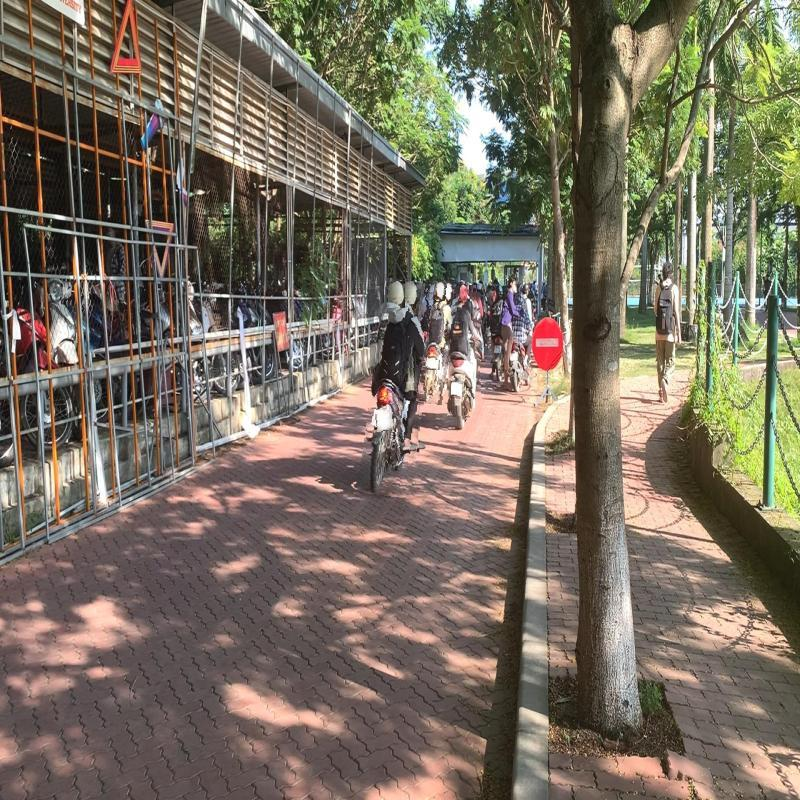helmet: (387, 281, 405, 308), (457, 284, 469, 306), (434, 282, 447, 301)
licenseplate: (376, 412, 394, 431), (451, 382, 463, 397), (430, 360, 440, 370)
motorcyclist: (365, 280, 434, 498), (446, 285, 482, 432), (421, 280, 457, 404)
nohelmet: (508, 274, 518, 295)
